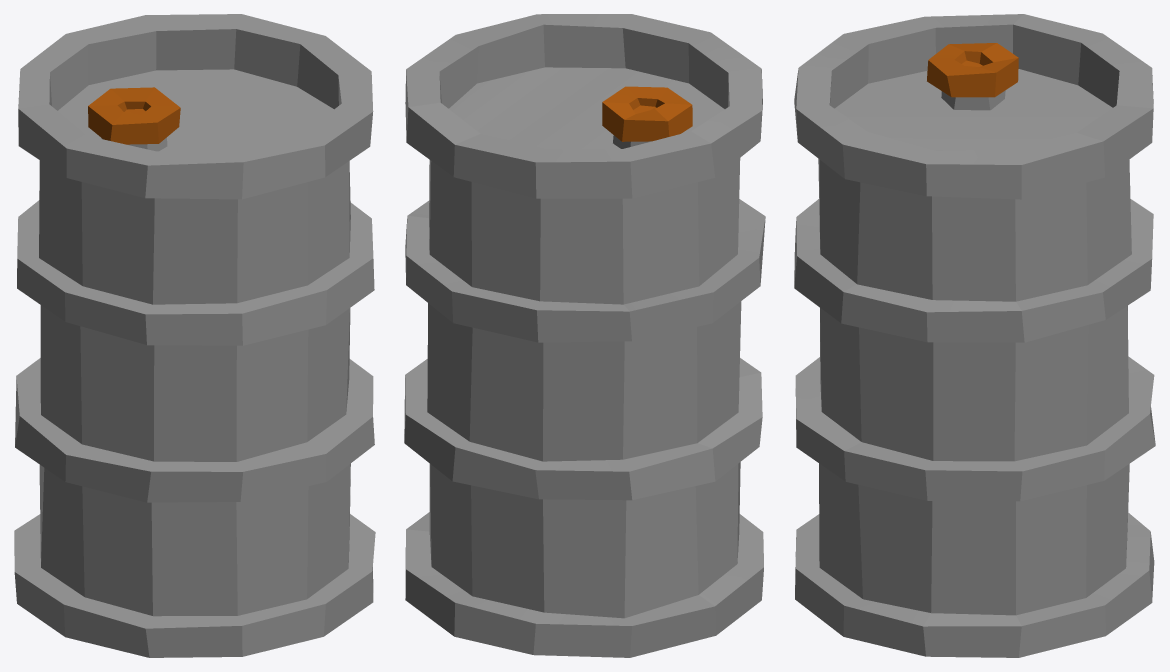
File: Barrel_2_2.fbx
The picture shows the model from 3 angles, left to right: view 1: azimuth 30°, elevation 25°; view 2: azimuth 150°, elevation 25°; view 3: azimuth 270°, elevation 25°; orthographic projection.
Visible parts, largest first — view 1: Barrel_2_2; view 2: Barrel_2_2; view 3: Barrel_2_2.
Boxes of the visible parts, bbox=[...] form: Barrel_2_2: bbox=[14, 14, 375, 657]; Barrel_2_2: bbox=[404, 14, 765, 657]; Barrel_2_2: bbox=[794, 14, 1155, 657].
Bounding box in the file's own units: 23.22 × 35.34 × 23.27.
